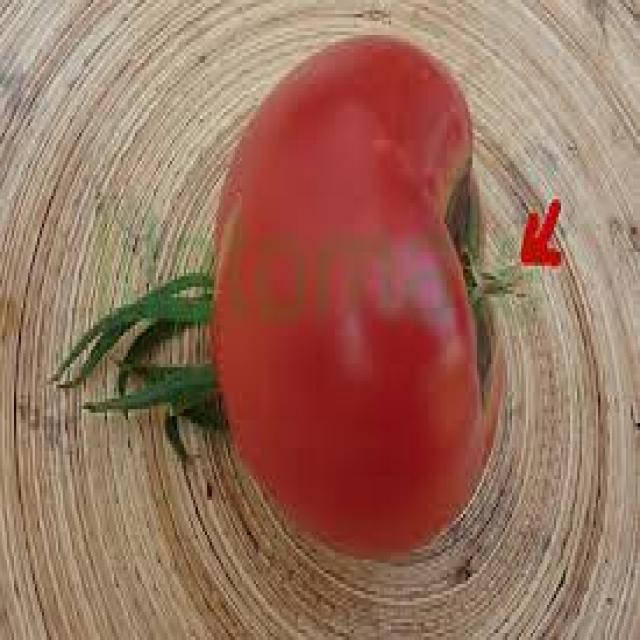organic waste: (207, 32, 524, 556), (46, 266, 225, 465)
